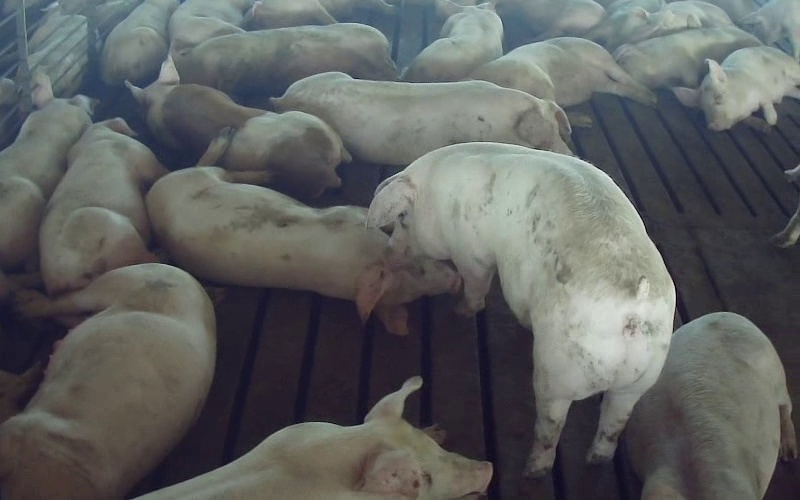pig: (368, 143, 674, 475), (146, 129, 459, 334), (0, 264, 215, 499), (136, 376, 491, 499), (625, 312, 795, 499), (127, 57, 349, 196), (271, 72, 570, 164), (39, 118, 165, 294), (0, 73, 92, 270), (173, 23, 397, 97), (469, 37, 655, 106), (673, 46, 799, 130), (401, 0, 502, 81)
